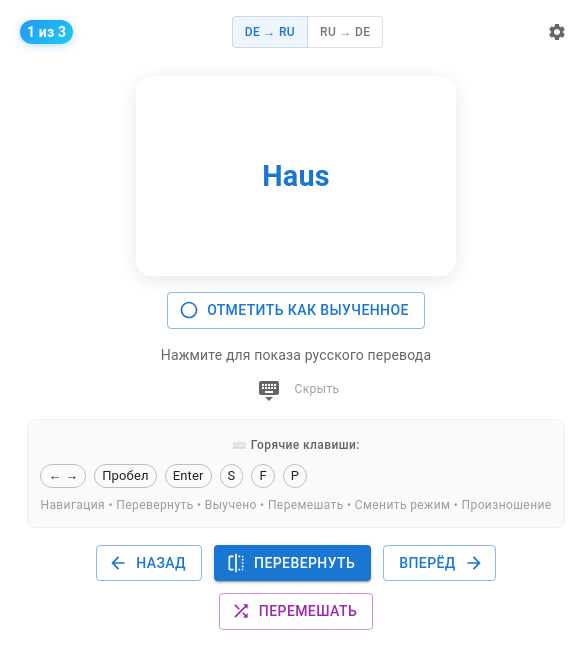
it: UniversalCardViewer demo progress › authenticated learned ignores guest progress
The width and height of the screenshot is (582, 647).
Expected: the text "1 из 3" is shown, [27,24,66,40]
Click the button "Отметить как выученное": (296, 310) [167,292,425,328]
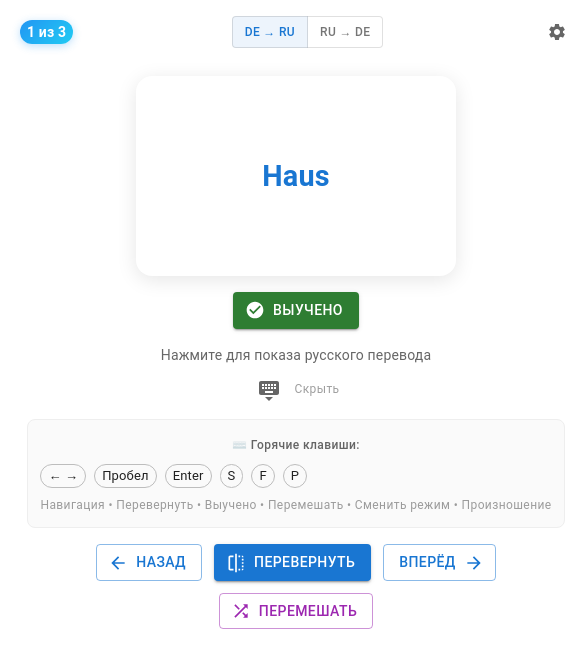
Result: the button "Выучено" is shown at [233,292,359,328]
